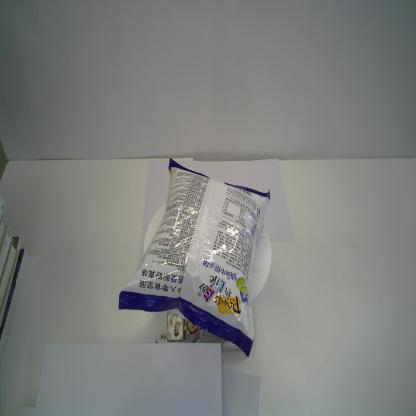Puffed Food: (117, 157, 271, 358)
